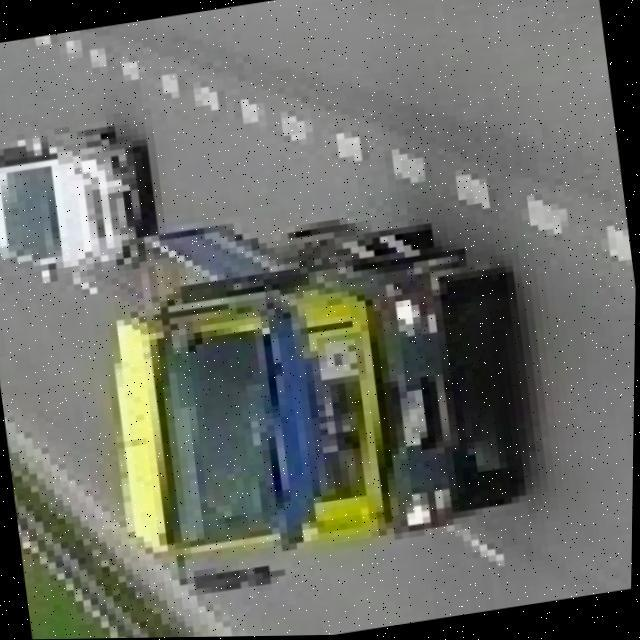truck: (80, 184, 540, 618)
